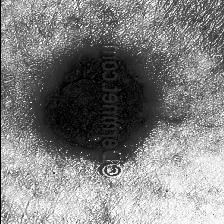Potentially Malignant Skin Tumors: (41, 46, 96, 158), (120, 58, 163, 152)
